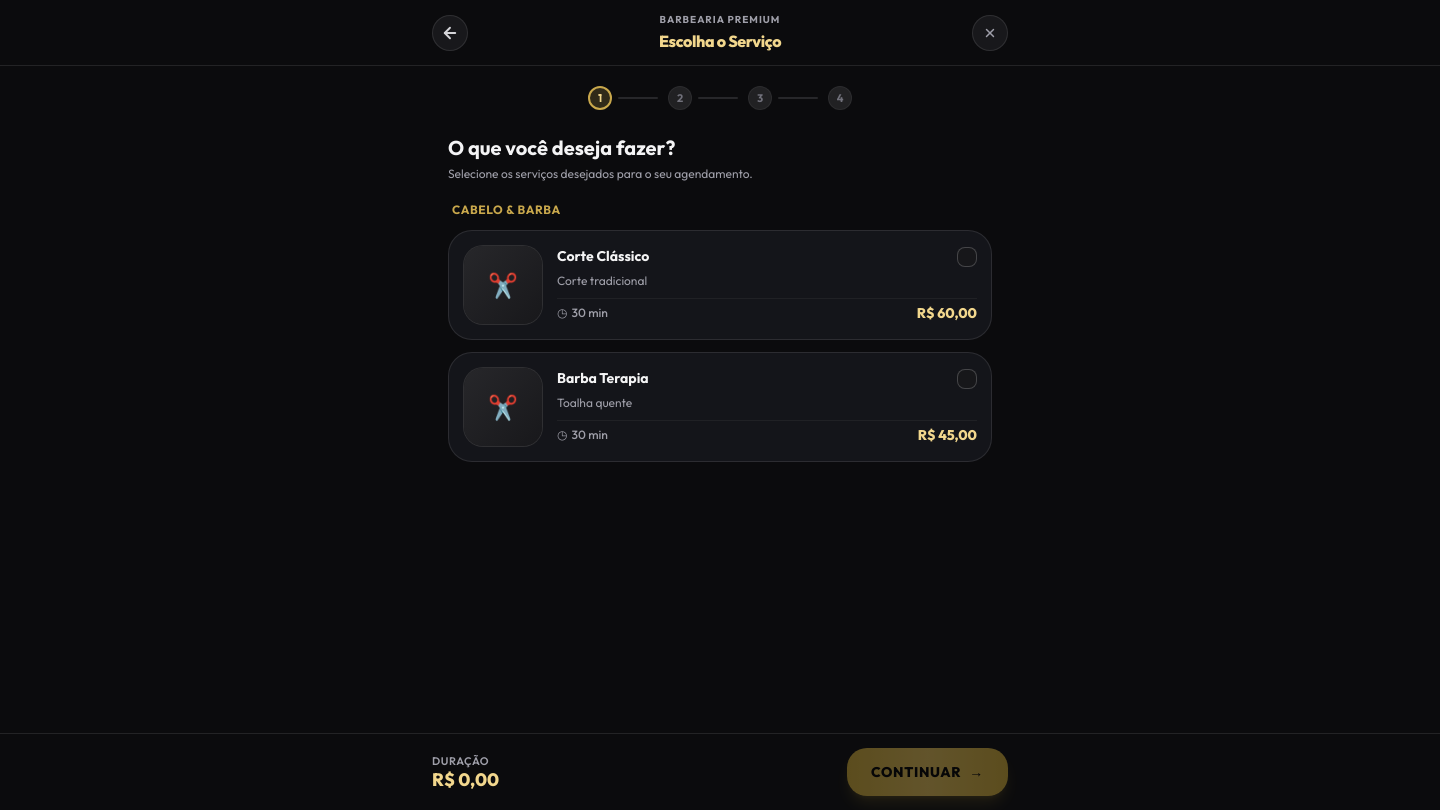
Scenario: Agendamento Público 2.0 UI Suite › avança para tela única com tira de data e profissionais horizontal
Check: the heading "Corte Clássico" is shown, box [557, 247, 649, 266]
# Select service
Click the checkbox labelled "Corte Clássico" at point(470, 285), box [462, 277, 478, 293]
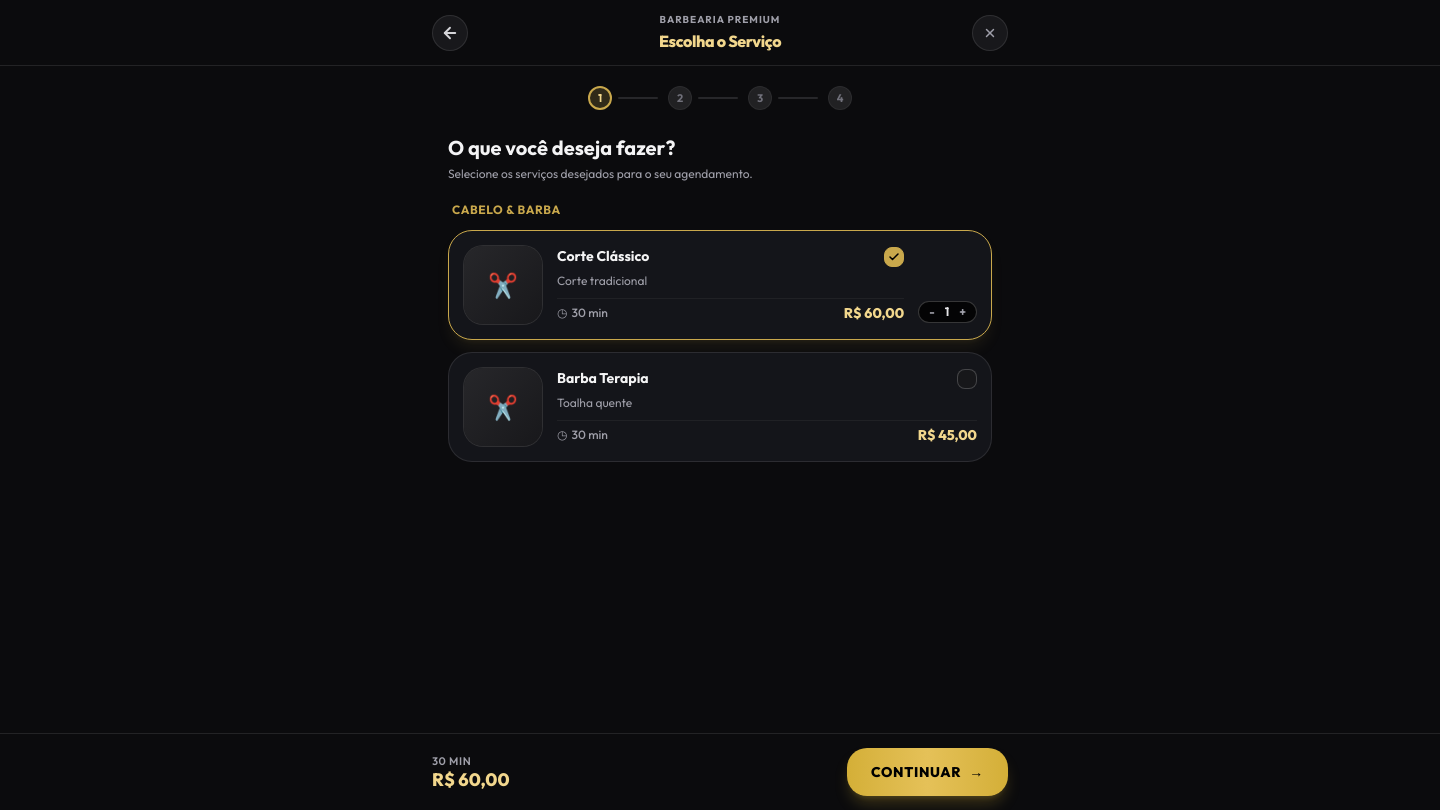
Click the button "Continuar →" at point(928, 772), box [847, 748, 1008, 796]
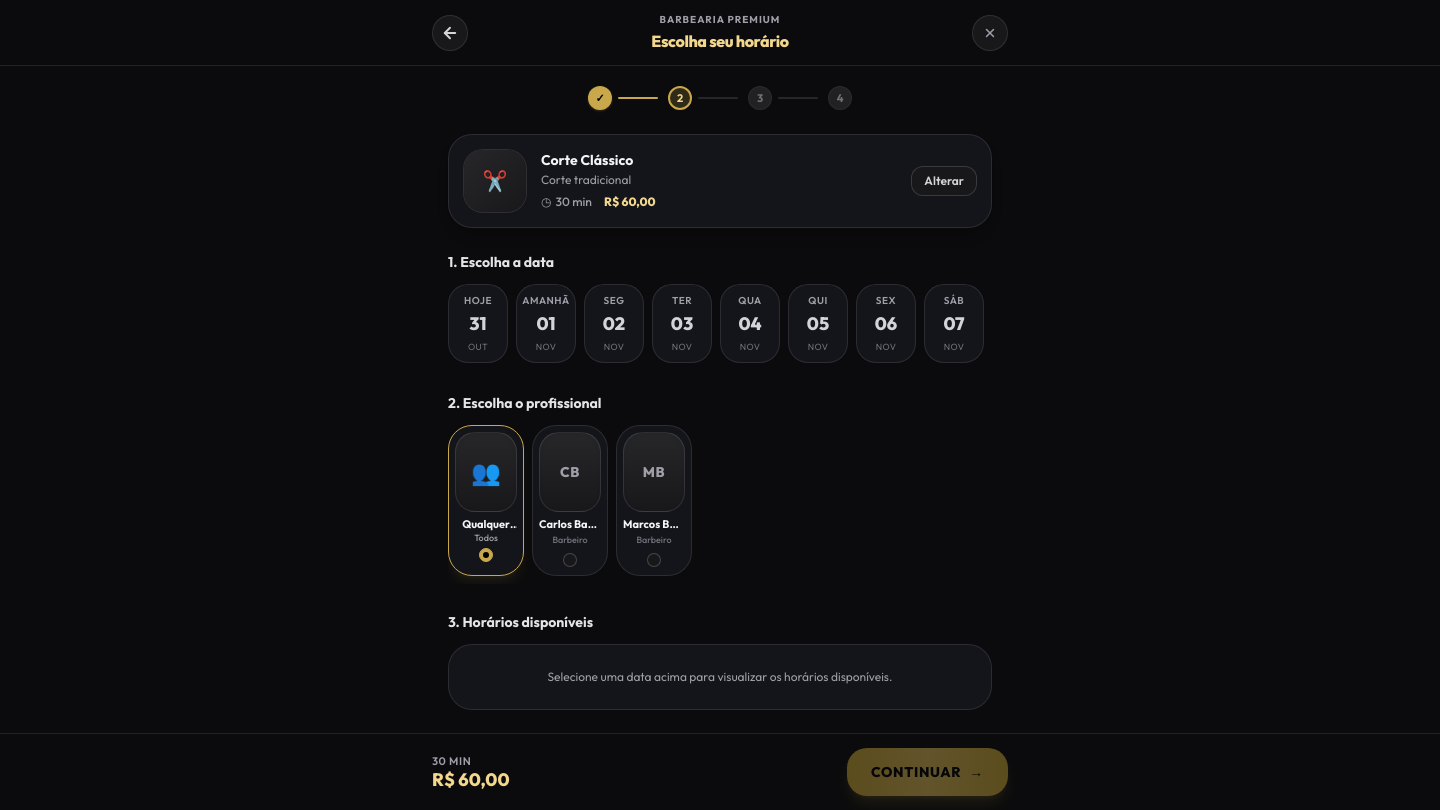
Check: the element with test id "date-strip" is shown, box [448, 282, 992, 368]
Check: the element with test id "professional-strip" is shown, box [448, 424, 692, 576]
Check: the text "Qualquer disponível" is shown, box [460, 516, 512, 544]
